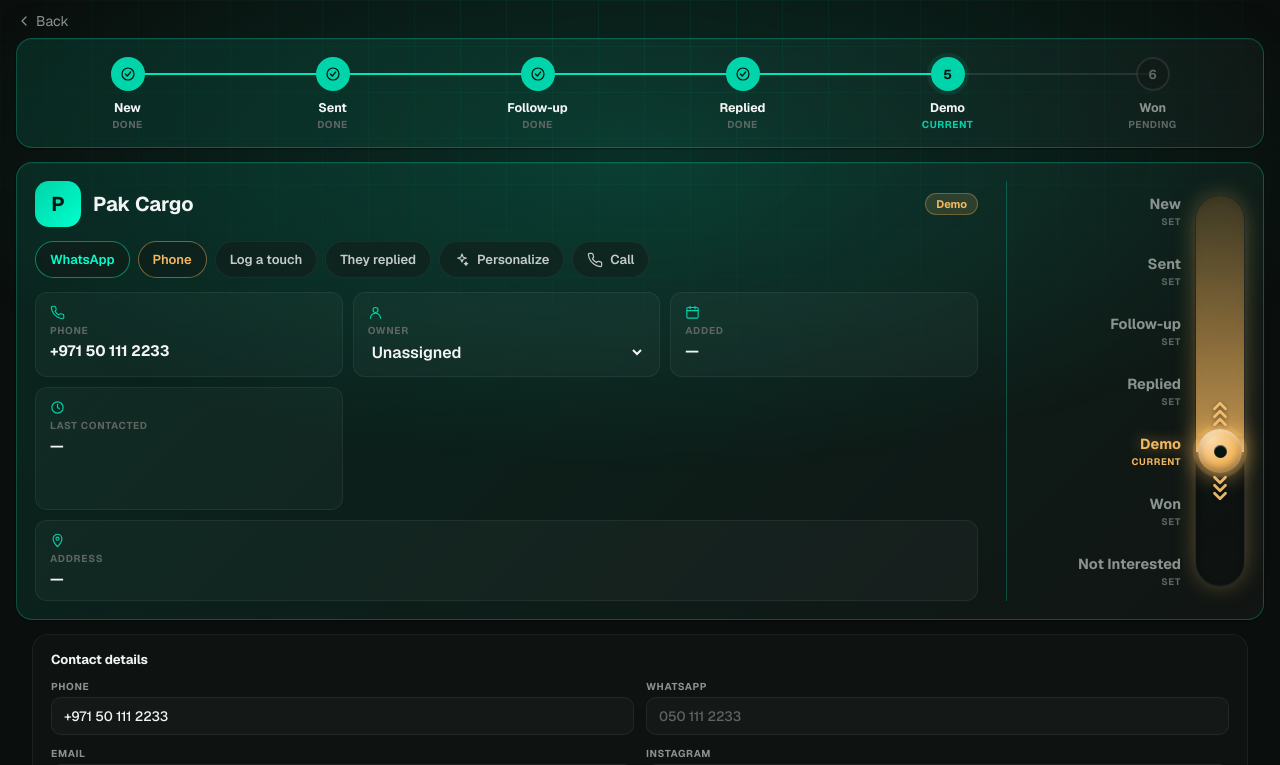
it: LeadDetail won-deal capture › cancels the won panel without committing any status change
The width and height of the screenshot is (1280, 765).
Click the button "Won Set" at (1095, 511), box [1007,481,1183,541]
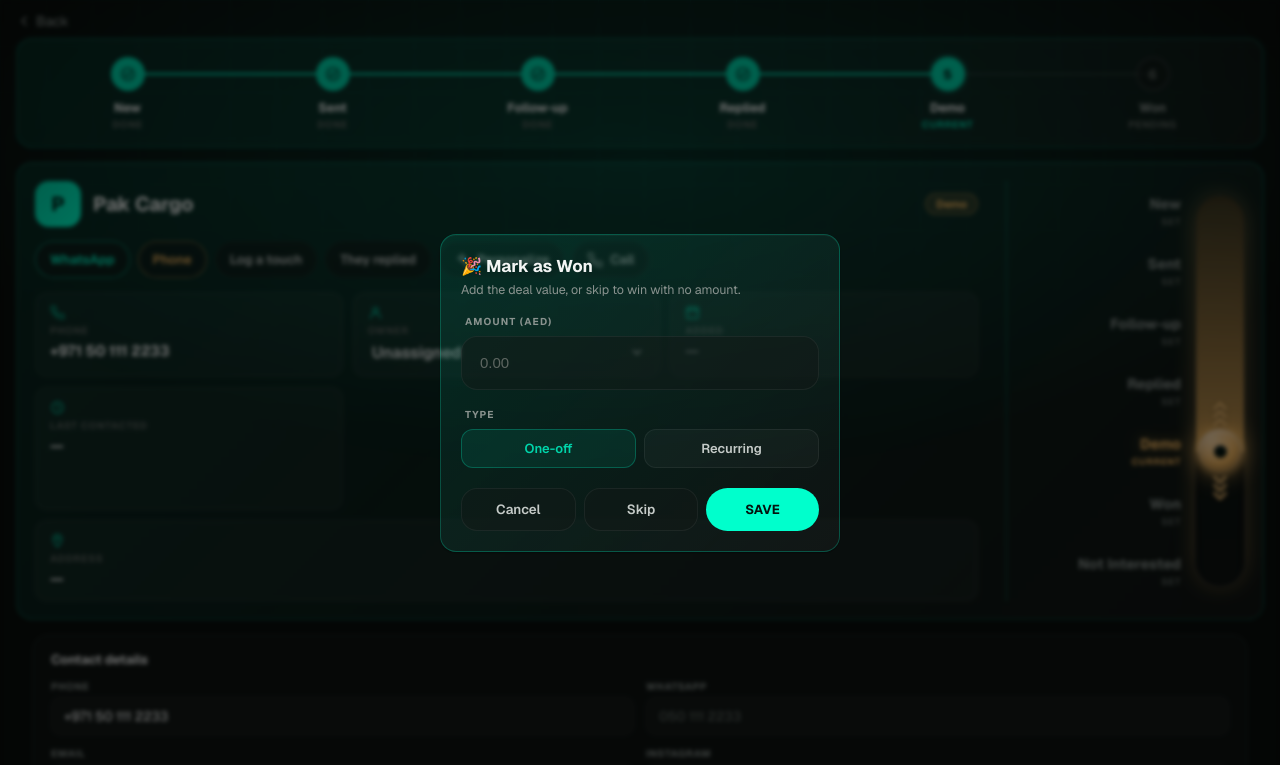
Click the button "Cancel" at (518, 509), box [461,488,576,531]
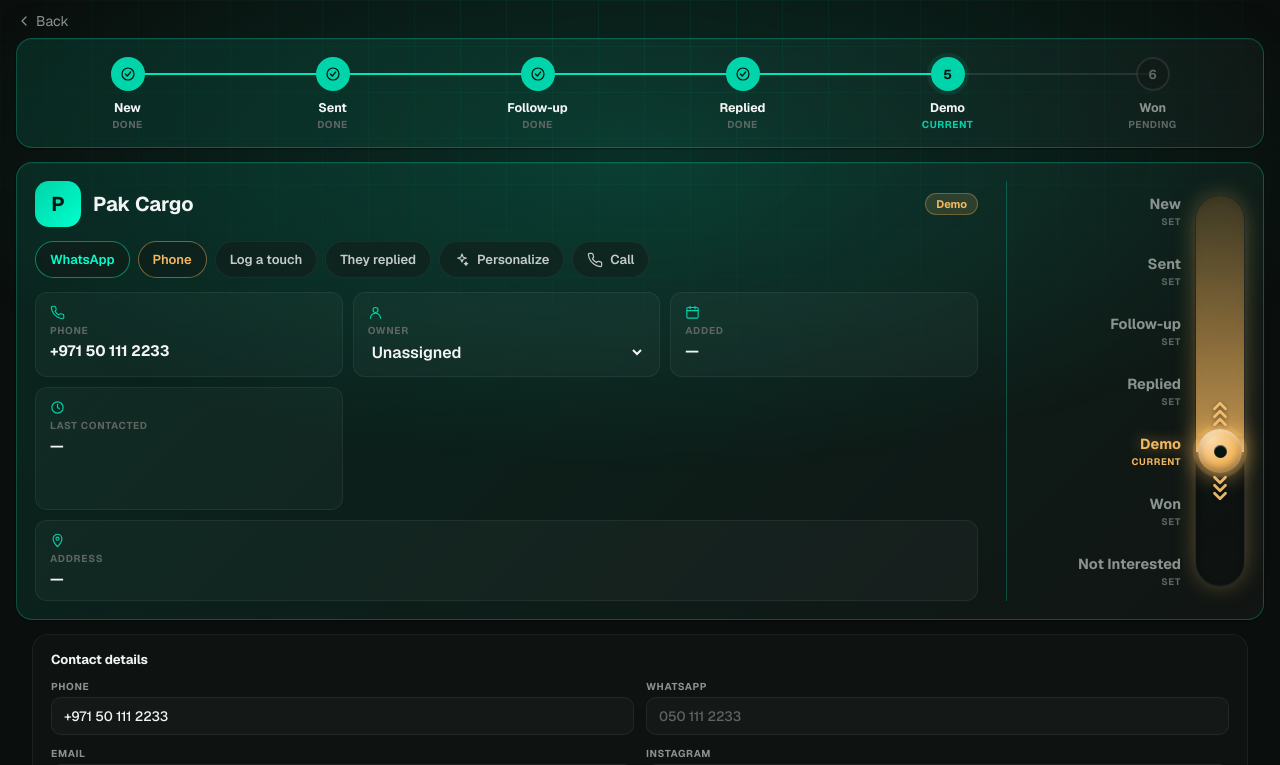
Now the text labelled "amount" is gone
